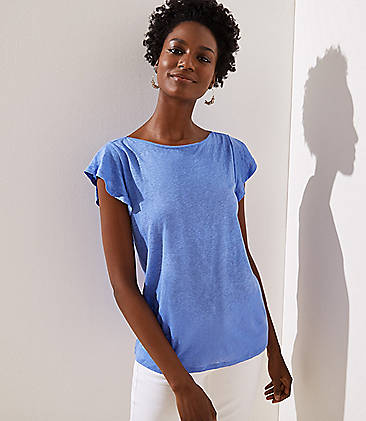C_short blouse: (88, 131, 268, 375)
